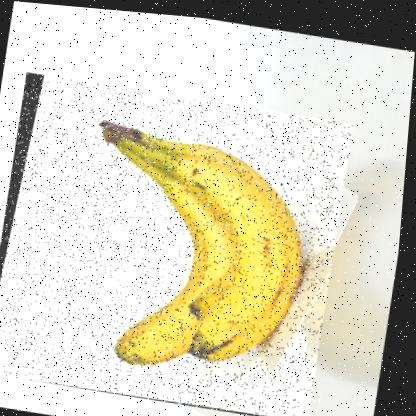banana: (0, 68, 358, 415)
